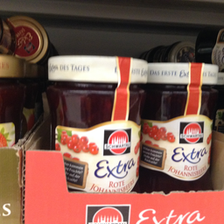jam: (46, 55, 147, 192), (142, 61, 218, 192)
